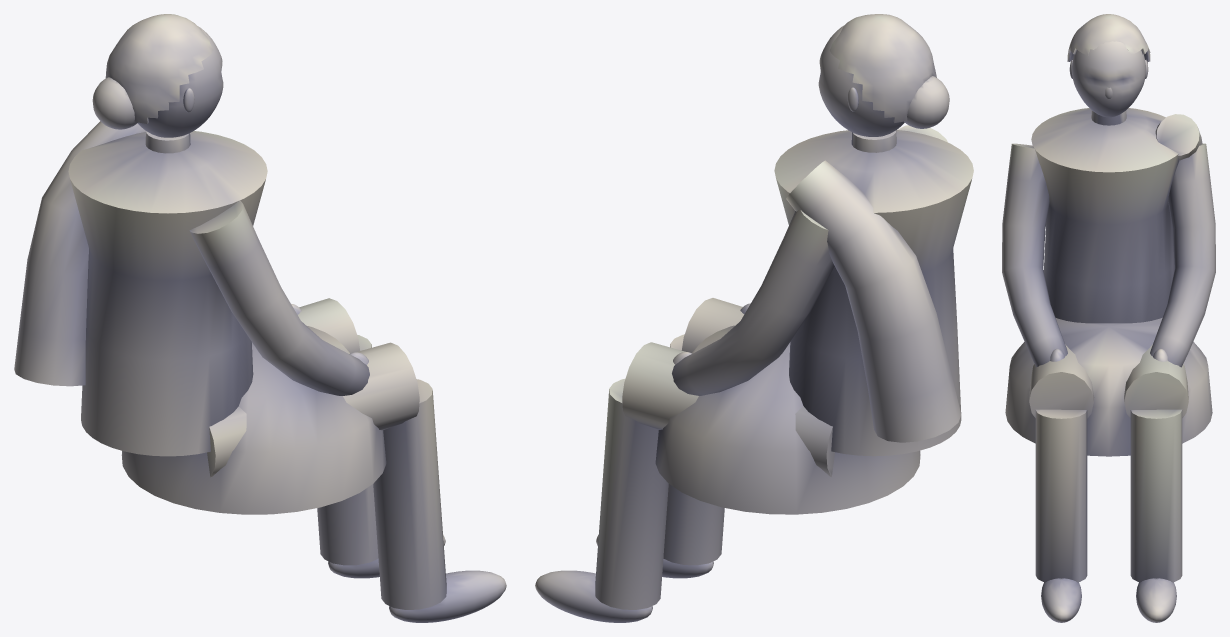
File: mrs-ghatak.glb
The picture shows the model from 3 angles, left to right: view 1: azimuth 30°, elevation 25°; view 2: azimuth 150°, elevation 25°; view 3: azimuth 270°, elevation 25°; orthographic projection. The views are drawn at different scales.
Parts seen in each view (by area): view 1: body; view 2: body; view 3: body.
Part boxes in pixels (x1,y1,x2,y2): body: (14,14,506,622); body: (535,14,973,622); body: (1002,14,1215,622).
Bounding box in the file's own units: 0.8781 × 1.27 × 0.4955.
